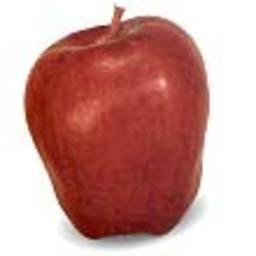apple: (23, 9, 209, 236)
